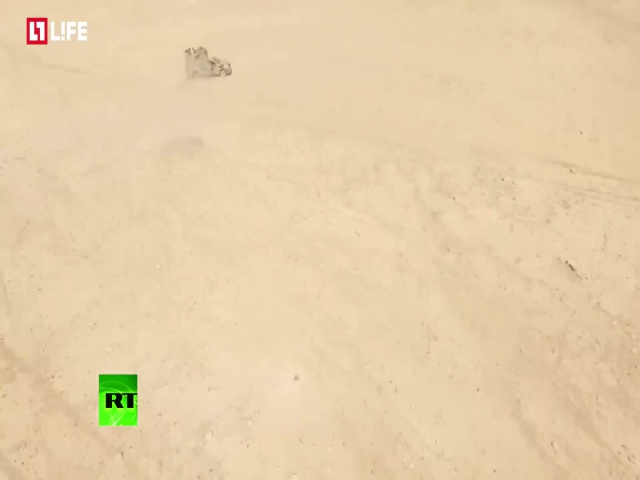vehicle: (183, 47, 233, 80)
